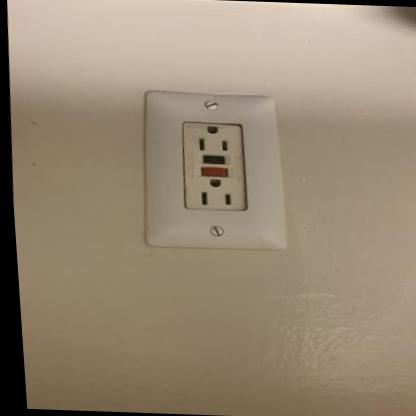OUTLET: (134, 92, 287, 252)
